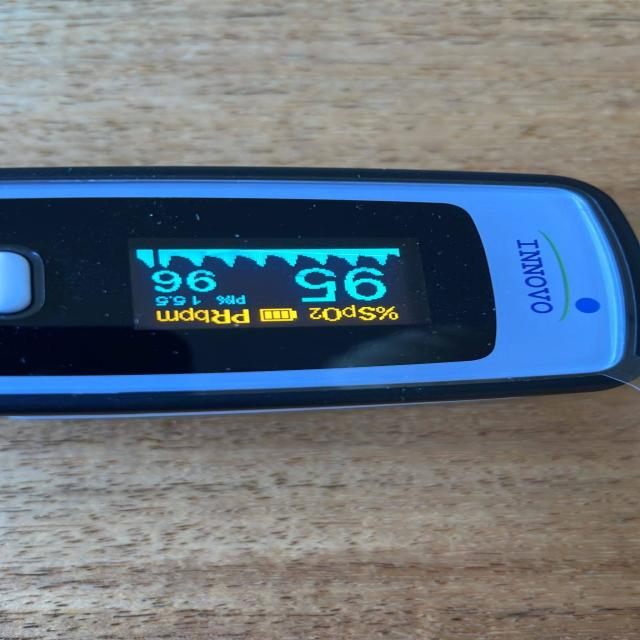spo2: (1, 167, 639, 415)
